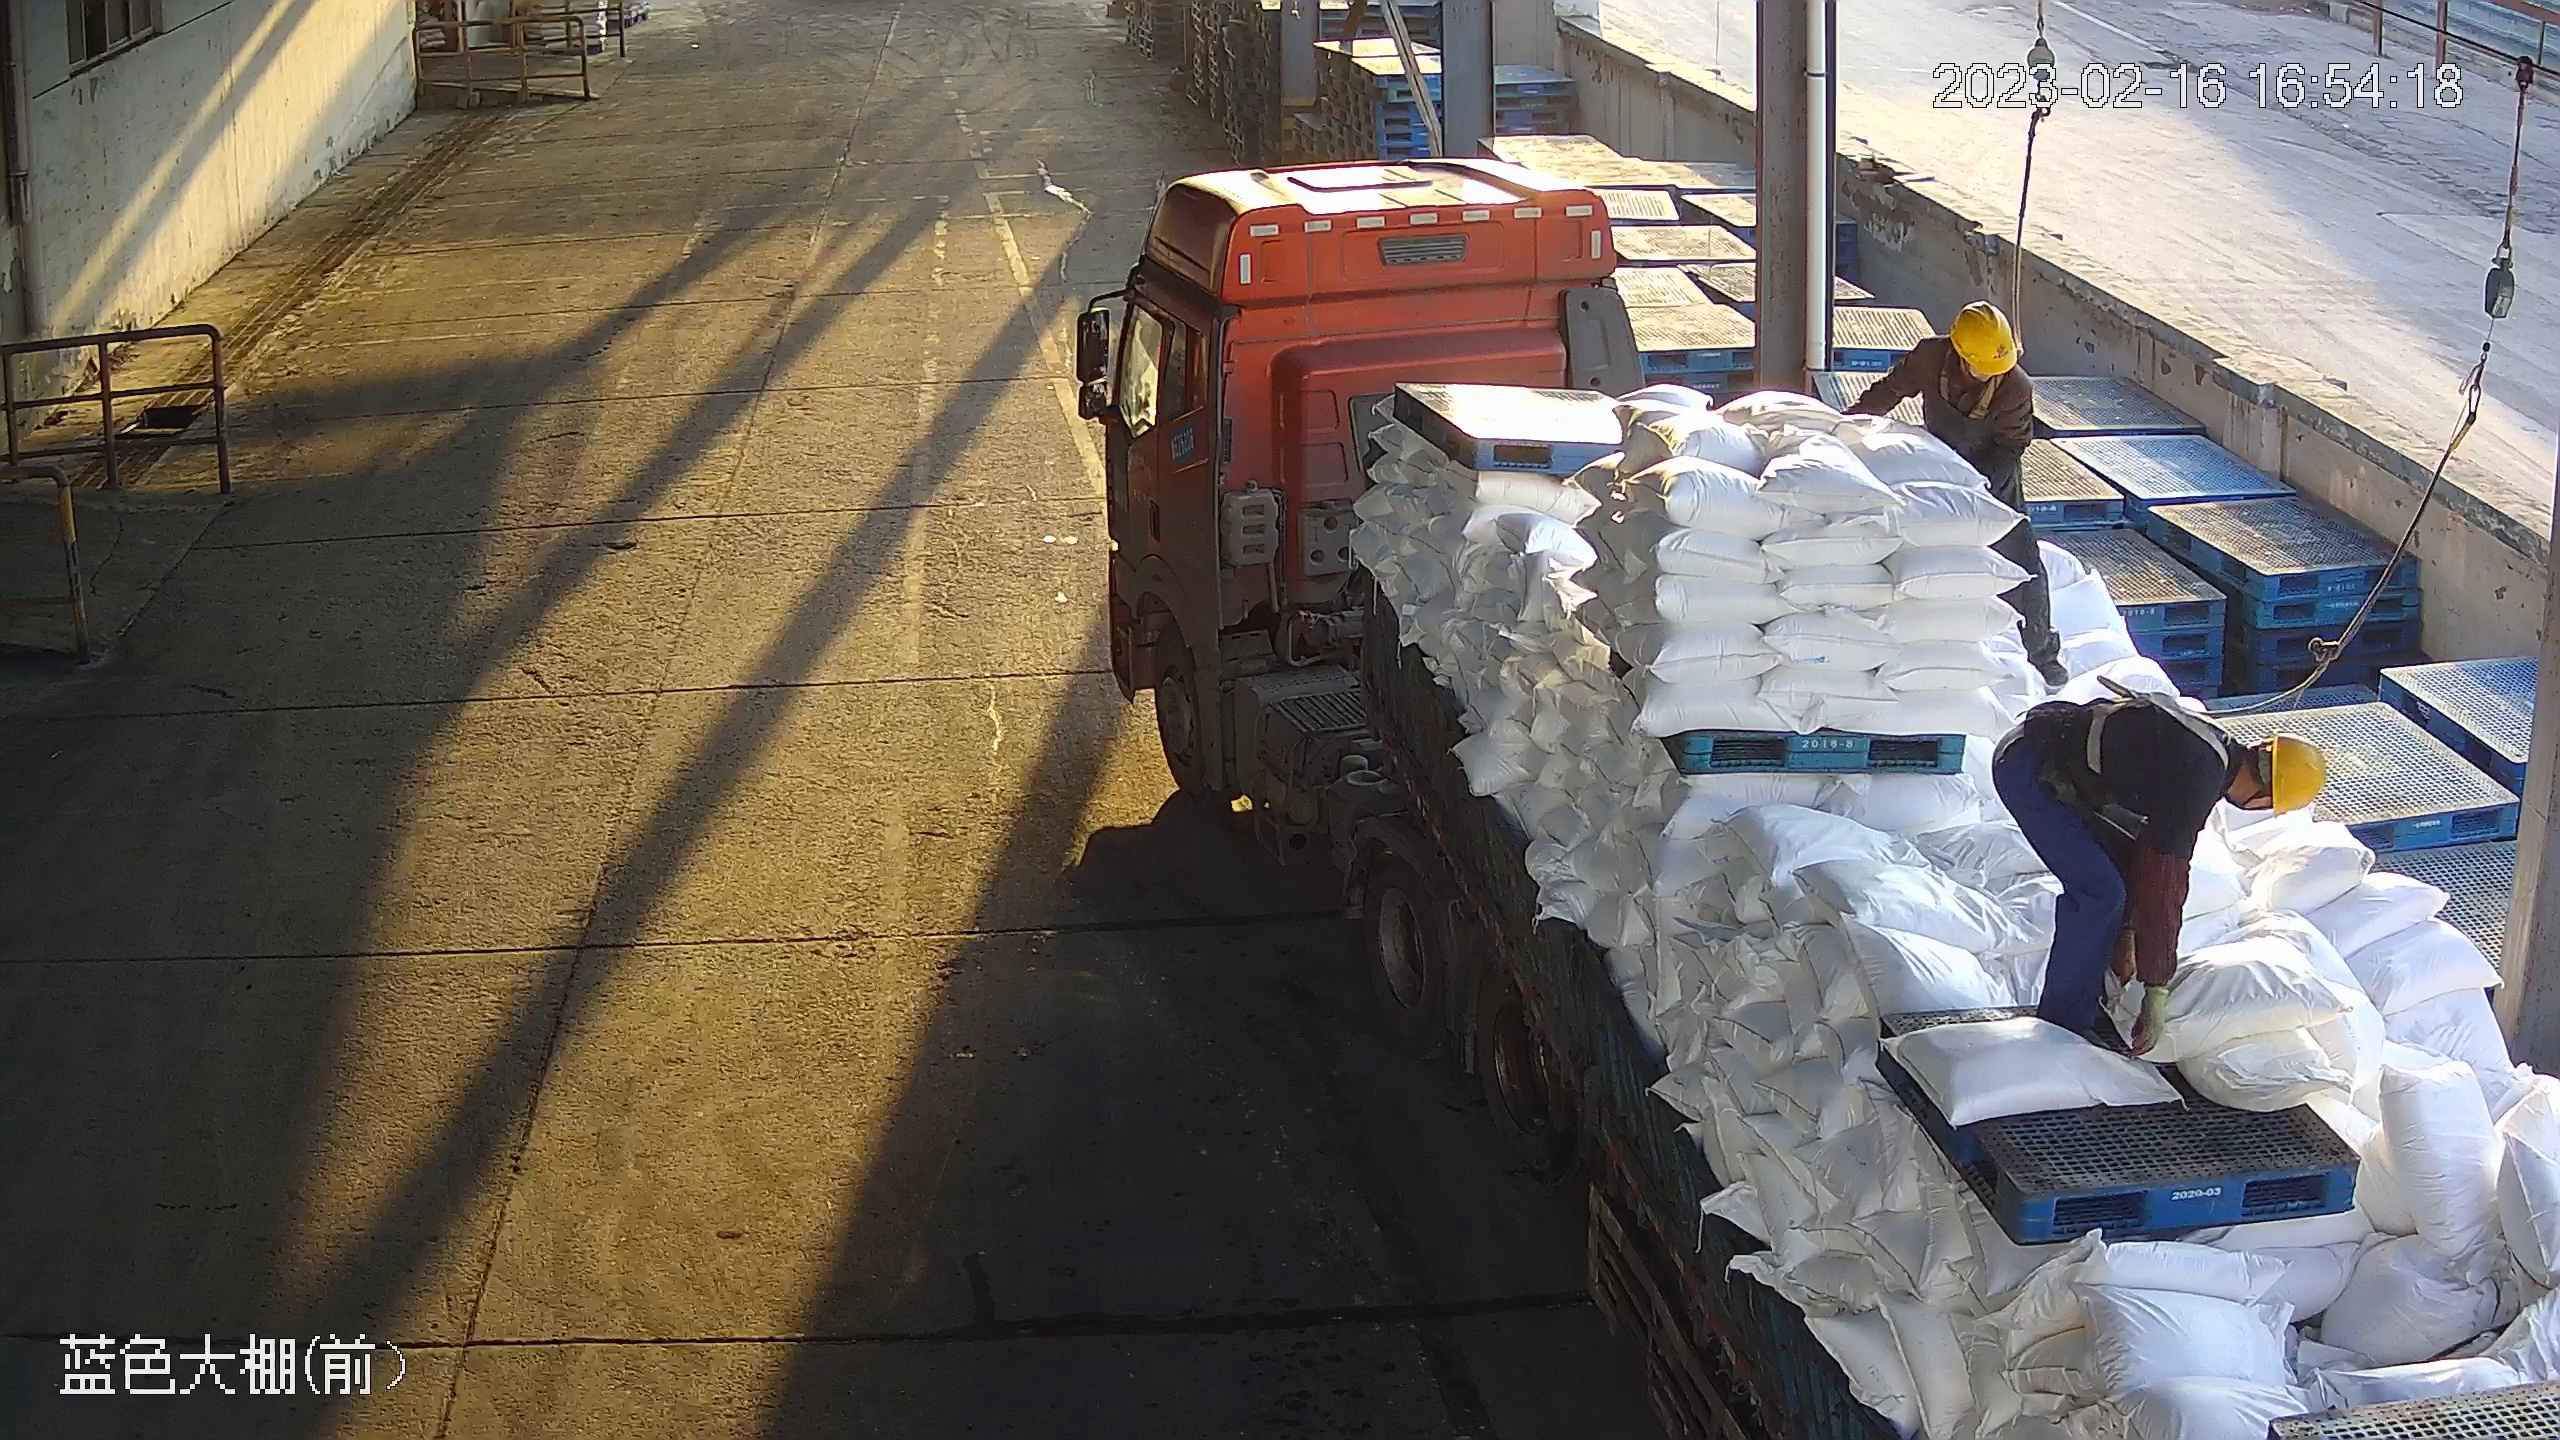belt: (2059, 666, 2258, 828), (1921, 315, 2039, 420)
head: (2132, 689, 2329, 840), (1899, 299, 2037, 407)
helmet: (1947, 299, 2021, 378), (2268, 731, 2328, 818)
people: (1987, 692, 2335, 1051), (1844, 296, 2076, 690)
truck: (1100, 162, 2560, 1440)
